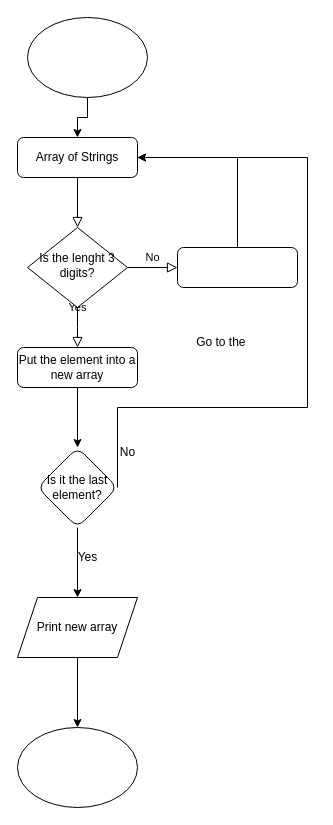
The diagram is 333 pixels wide and 825 high, and some of its shapes have lost their labels. Here are the shapes that lost their labels. From the top down, the box of each, then its label:
(26, 16, 148, 98): Start
(176, 246, 298, 288): take the next element
(16, 726, 138, 808): Finish
